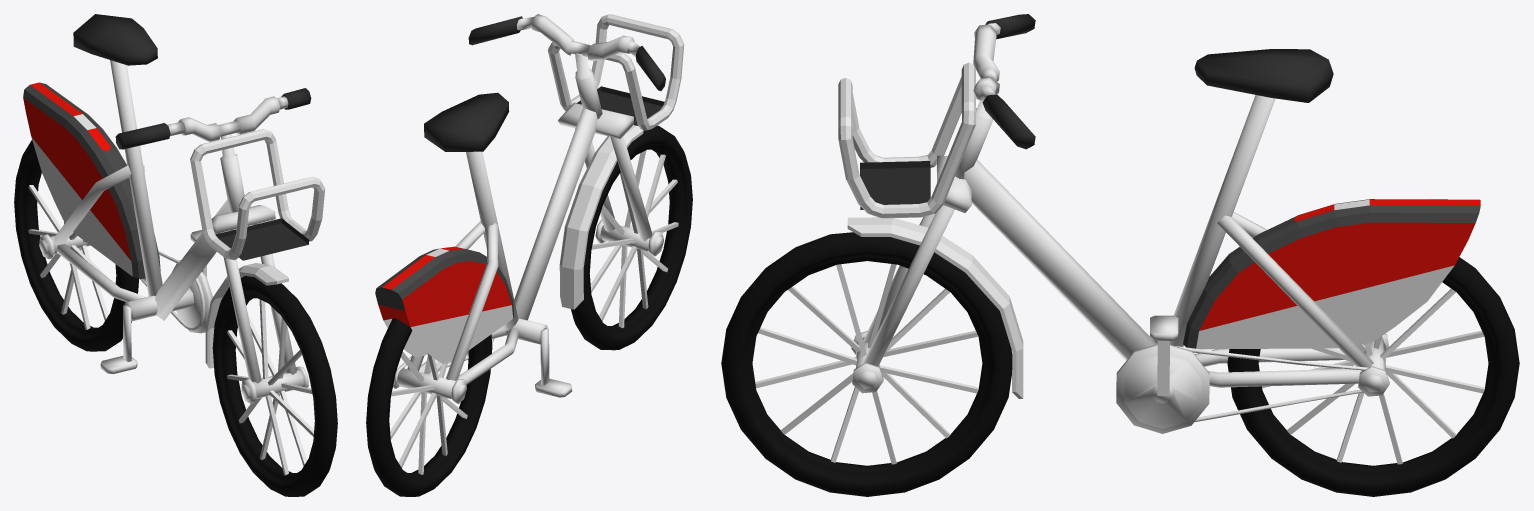
File: nextbike.glb
3 views of the same model, side by side, from view 1: azimuth 30°, elevation 25°; view 2: azimuth 150°, elevation 25°; view 3: azimuth 270°, elevation 25° (orthographic). The views are drawn at different scales.
Parts seen in each view (by area): view 1: nextbike; view 2: nextbike; view 3: nextbike.
Part boxes in pixels (box(x1,y1,x2,y2)): nextbike: box(14, 14, 337, 496); nextbike: box(366, 14, 692, 496); nextbike: box(721, 14, 1519, 496).
Size of the model in its own units: 0.5762 by 1.02 by 1.67.
